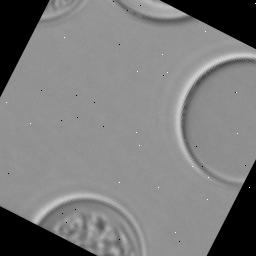picoshell: (174, 52, 256, 190), (30, 193, 145, 256), (111, 0, 189, 22), (38, 0, 85, 22)
